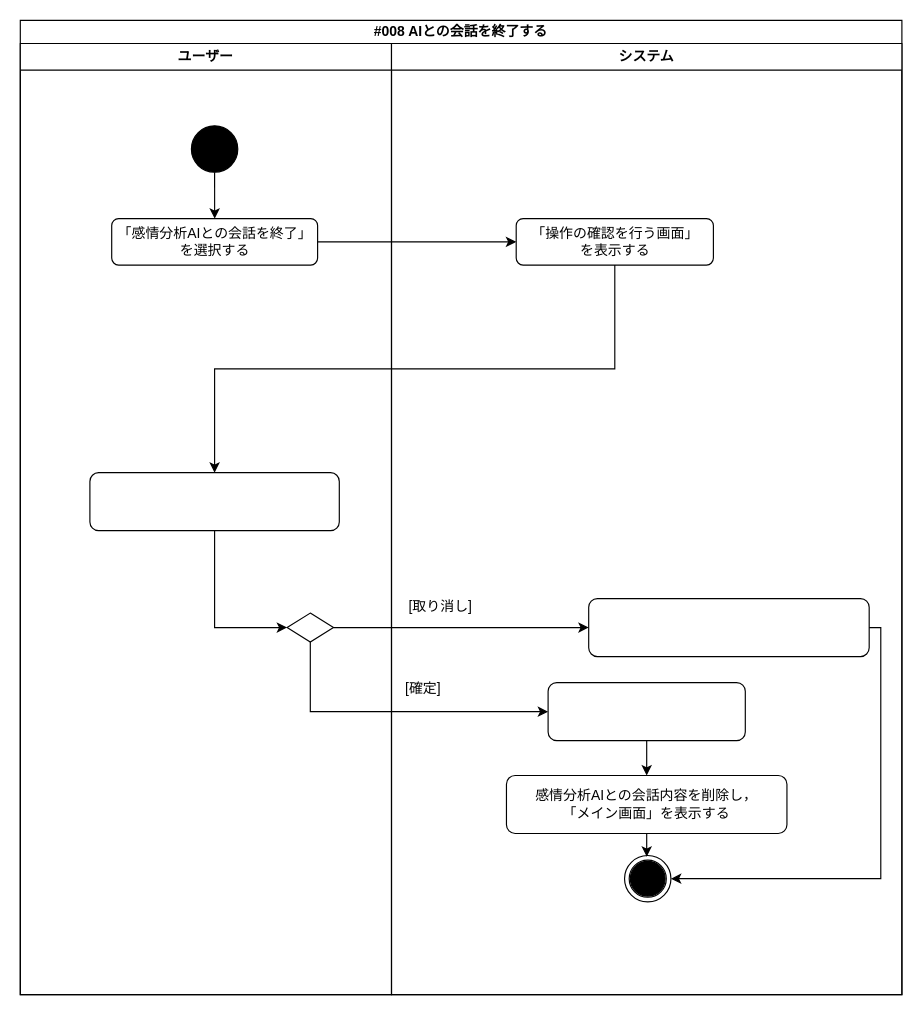
Some shapes in this 922 by 1015 pixel diagram are drawn without their labels. The shapes that lost their labels are listed below. From the top down, each one's centre as x and y in pixels, then its label:
At (214,501): "感情分析AIとの会話の終了について， 「取り消し」か「確定」かを 選択する".
At (728,627): "「AIと会話する画面」 を表示する".
At (646,711): "日記の記録内容を 削除する".
